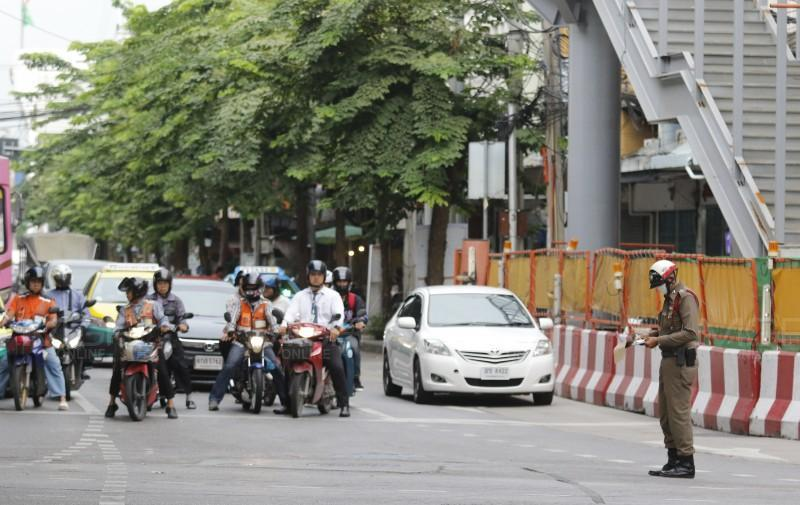helmet: (11, 256, 53, 305), (642, 259, 686, 304), (114, 271, 153, 319), (304, 256, 330, 300)
